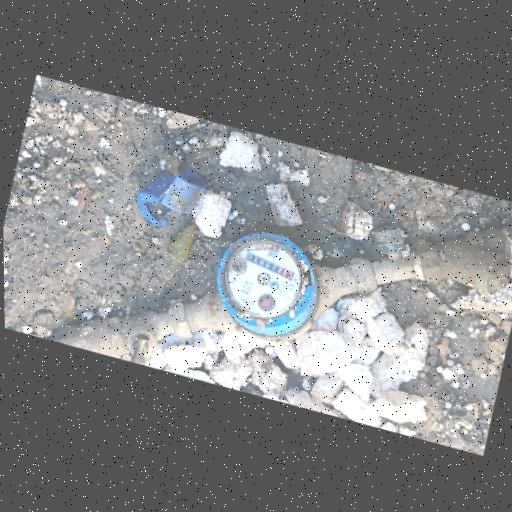0: (263, 261, 273, 271), (246, 252, 255, 261)
1: (251, 254, 261, 265)
6: (257, 258, 267, 268), (286, 271, 295, 280)
7: (269, 263, 279, 273)
8: (275, 266, 284, 275)
9: (280, 268, 290, 279)
border_water_meter_number: (241, 250, 297, 282)
